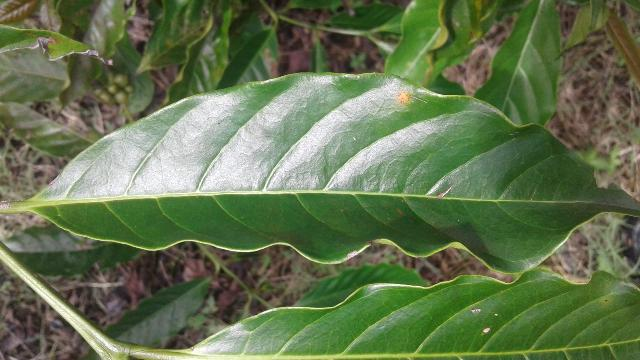rust_level_1: (23, 67, 640, 279)
